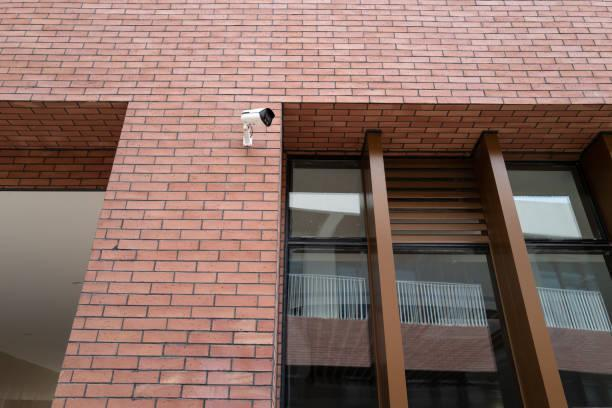camera: (227, 95, 283, 154)
